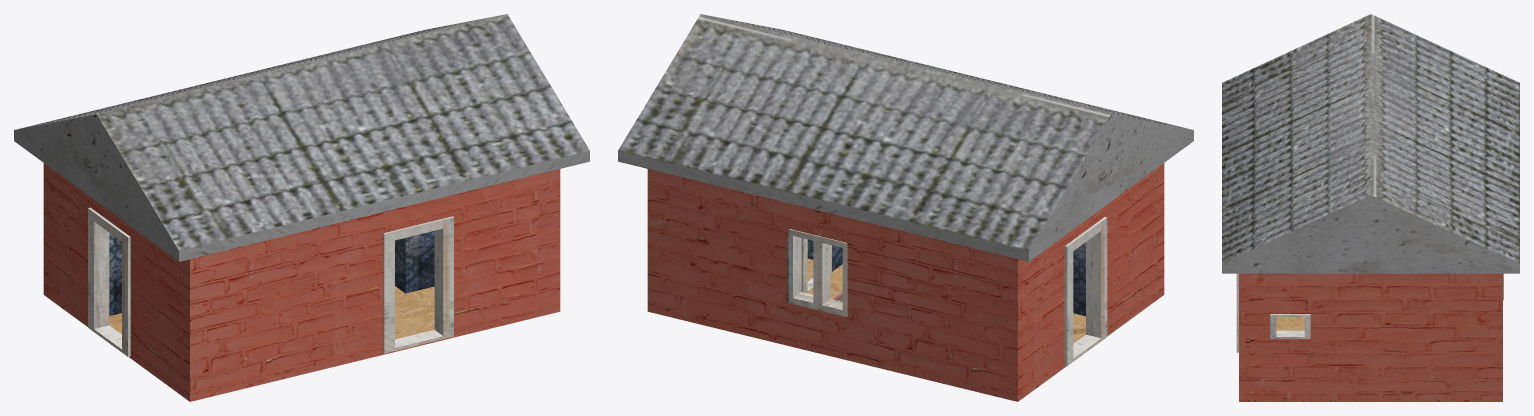
The model's file is House ver3.FBX.
3 renders of one model, left to right at view 1: azimuth 30°, elevation 25°; view 2: azimuth 150°, elevation 25°; view 3: azimuth 270°, elevation 25°, orthographic. The views are drawn at different scales.
Parts seen in each view (by area): view 1: House ver3; view 2: House ver3; view 3: House ver3.
Part boxes in pixels (x1,y1,x2,y2): House ver3: [14, 14, 589, 401]; House ver3: [618, 14, 1193, 401]; House ver3: [1222, 14, 1519, 401].
Size of the model in its own units: 586 by 326 by 408.
1 material, 1 textured.
